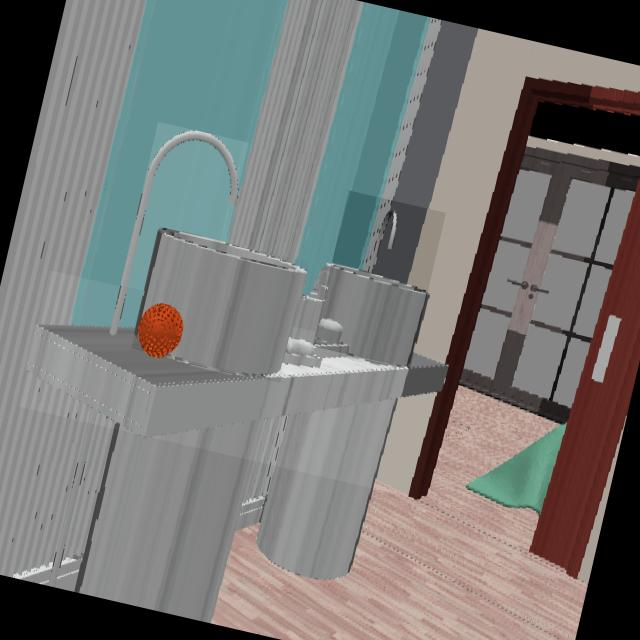shelf: (27, 326, 447, 437)
washbasin: (110, 132, 237, 332), (137, 230, 304, 375), (324, 199, 427, 366)
